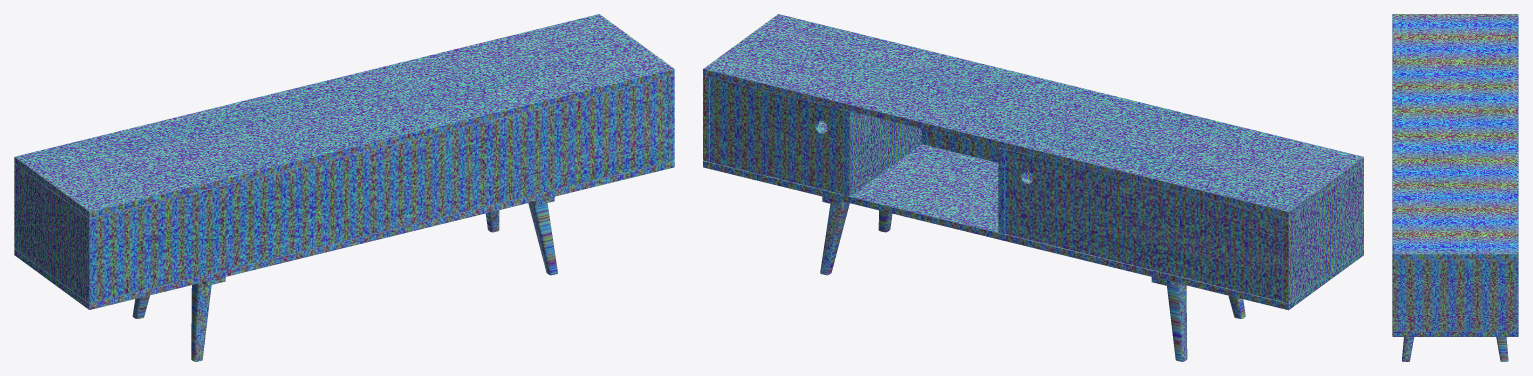
The model's file is cabinet.glb.
The picture shows the model from 3 angles, left to right: view 1: azimuth 30°, elevation 25°; view 2: azimuth 150°, elevation 25°; view 3: azimuth 270°, elevation 25°; orthographic projection. The views are drawn at different scales.
Size of the model in its own units: 1800 by 535 by 400.
1 material, 1 textured.
